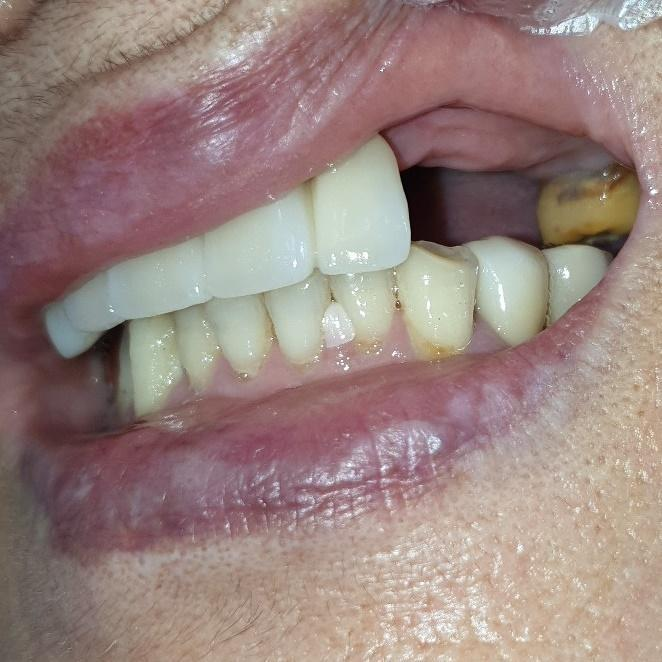Missing: (311, 113, 633, 262)
